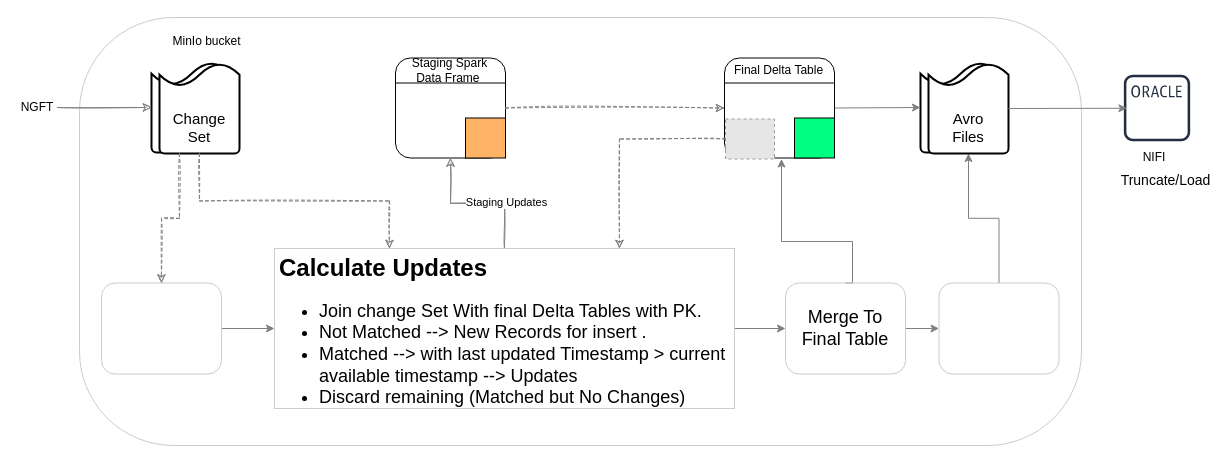
The diagram is 1232 pixels wide and 463 high, and some of its shapes have lost their labels. Grey dashed boxes stand in for pictures. Each missing label, with the box of its shape:
Parse Files: (100, 282, 222, 374)
Store as Avro: (938, 282, 1059, 374)
